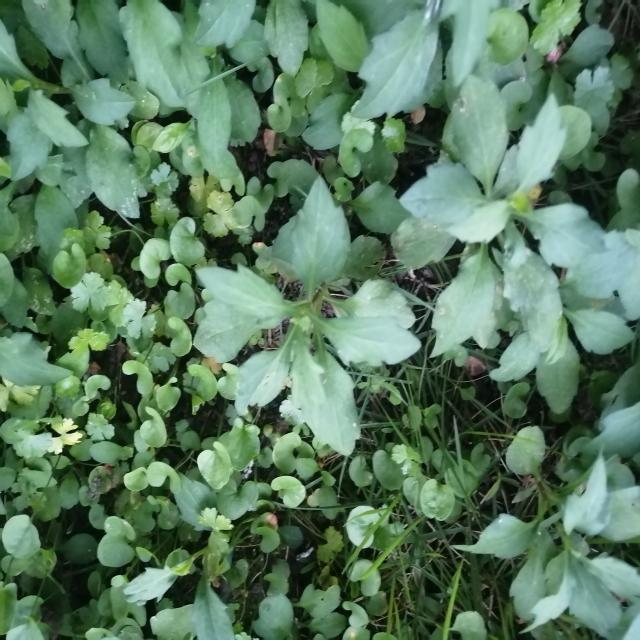Indian aster: (186, 179, 406, 453), (411, 101, 594, 366)
